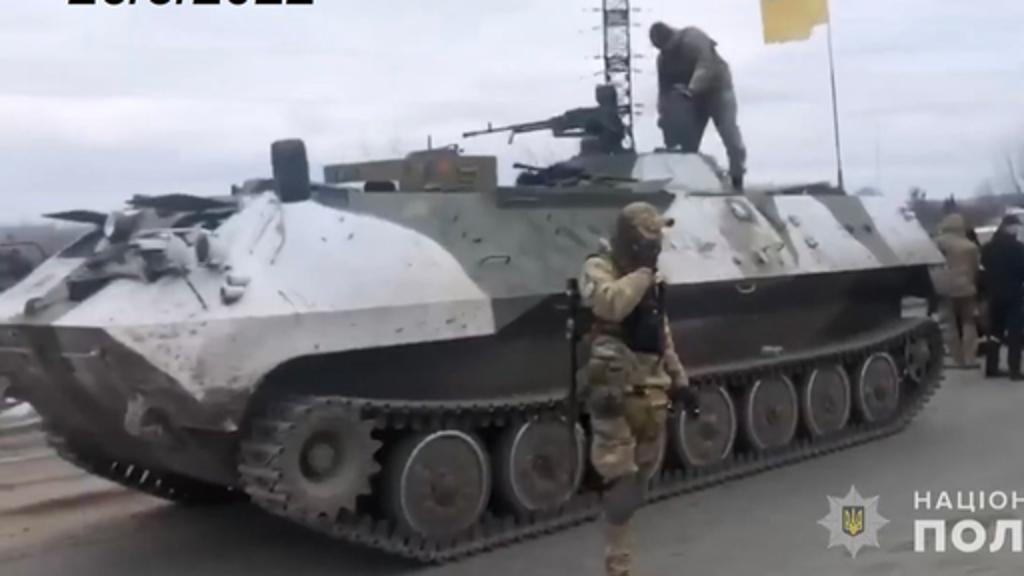APC-IFV: (0, 88, 946, 560)
